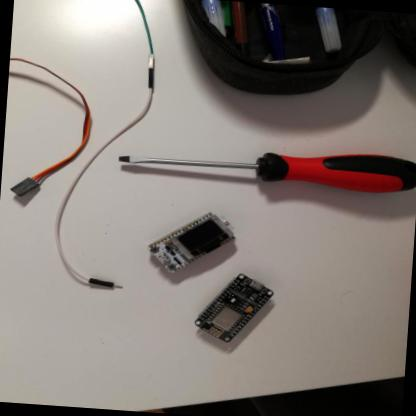ESP8266: (191, 270, 277, 347)
Heltec_ESP32_Lora: (145, 207, 239, 279)
